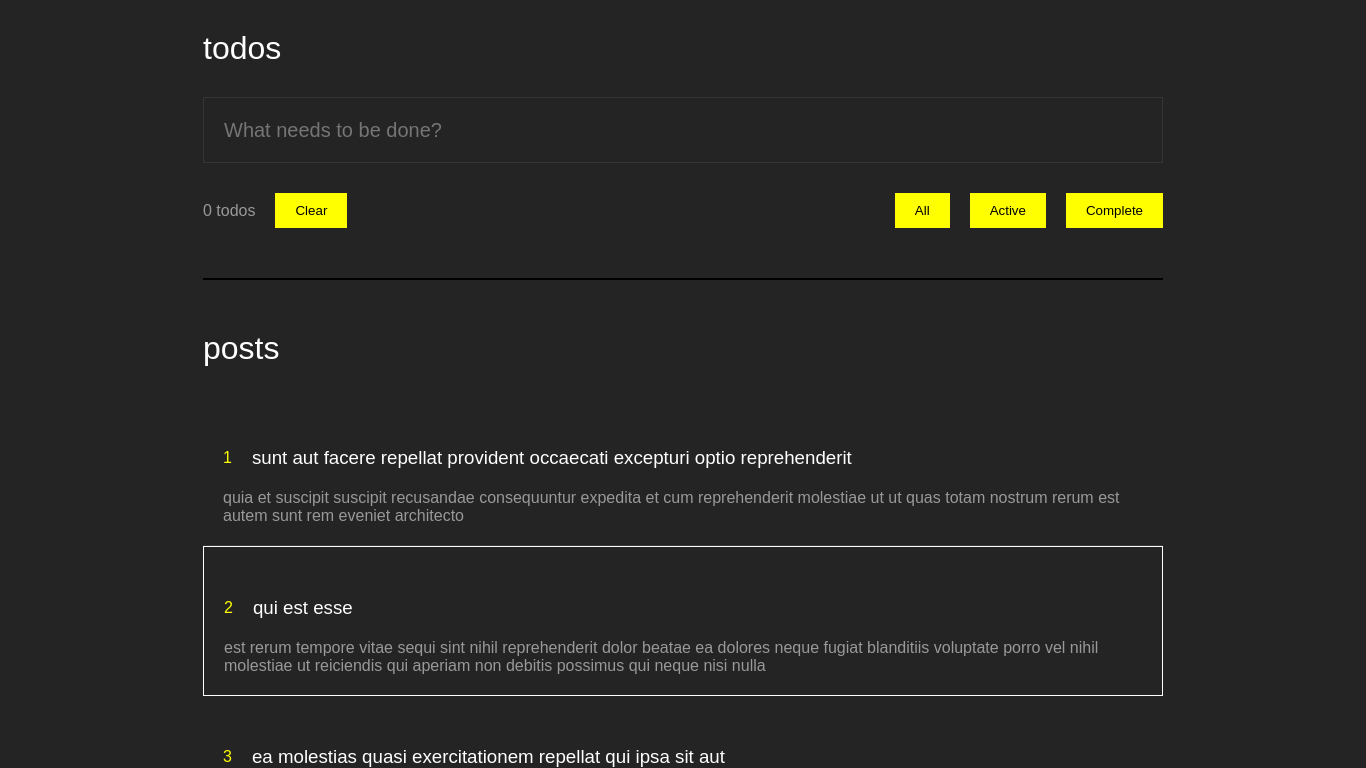
Test case: Todos footer › count › todo count should go up when todo added
The image size is (1366, 768).
Type "Walk the dog" into the field with id "newTodo" at coordinates (683, 130), box [203, 97, 1163, 163]
Then press Enter
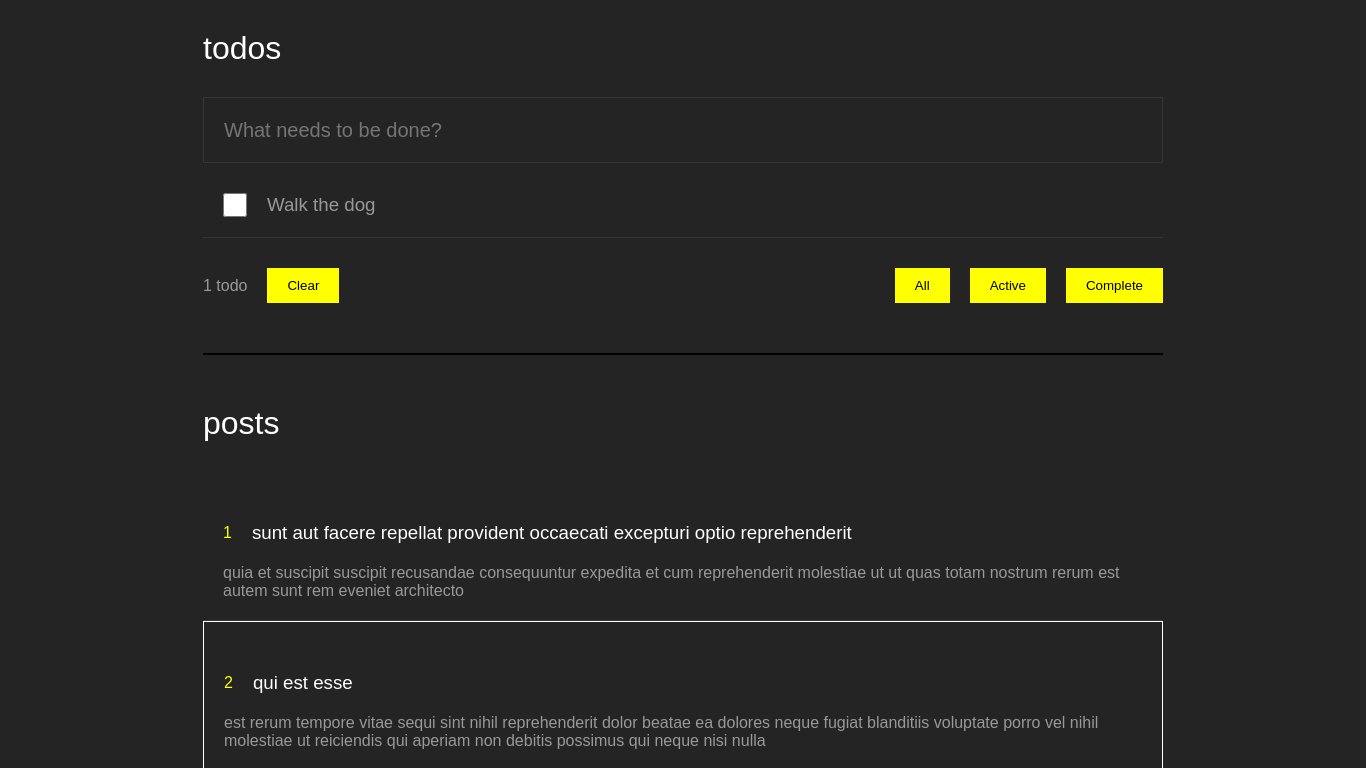
Now the text with id "count" shows "1", box [203, 277, 247, 294]
Type "Walk the dog" into the field with id "newTodo" at coordinates (683, 130), box [203, 97, 1163, 163]
Then press Enter
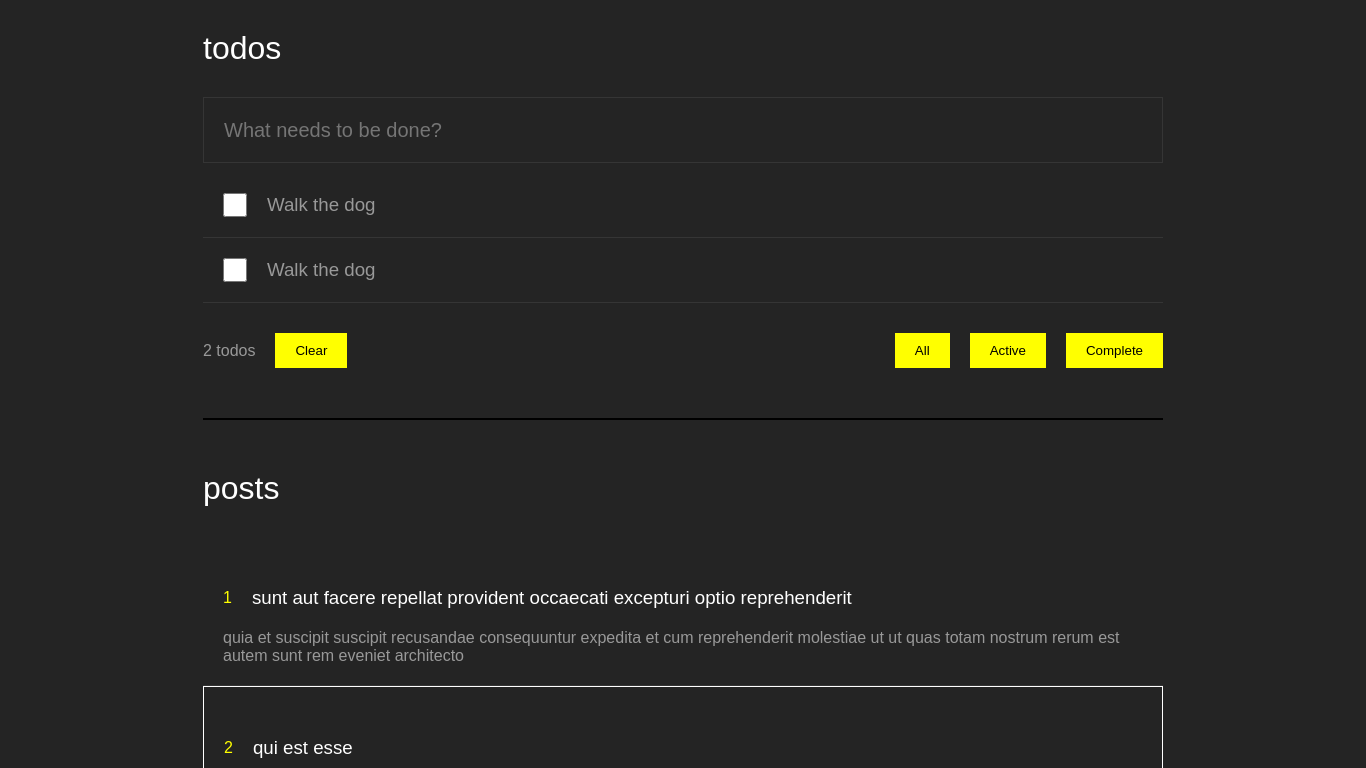
Now the text with id "count" shows "2", box [203, 342, 255, 359]
Type "Walk the dog" into the field with id "newTodo" at coordinates (683, 130), box [203, 97, 1163, 163]
Then press Enter
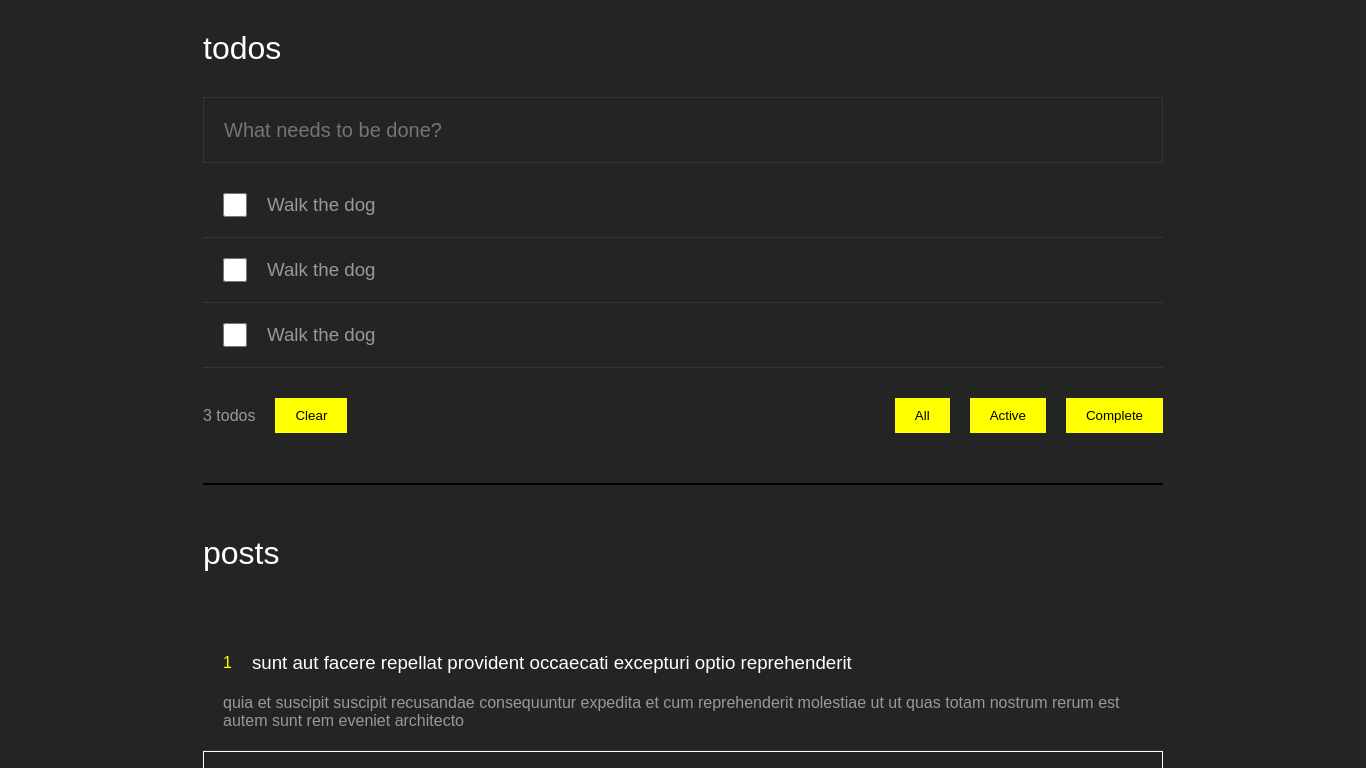
Now the text with id "count" shows "3", box [203, 407, 255, 424]
